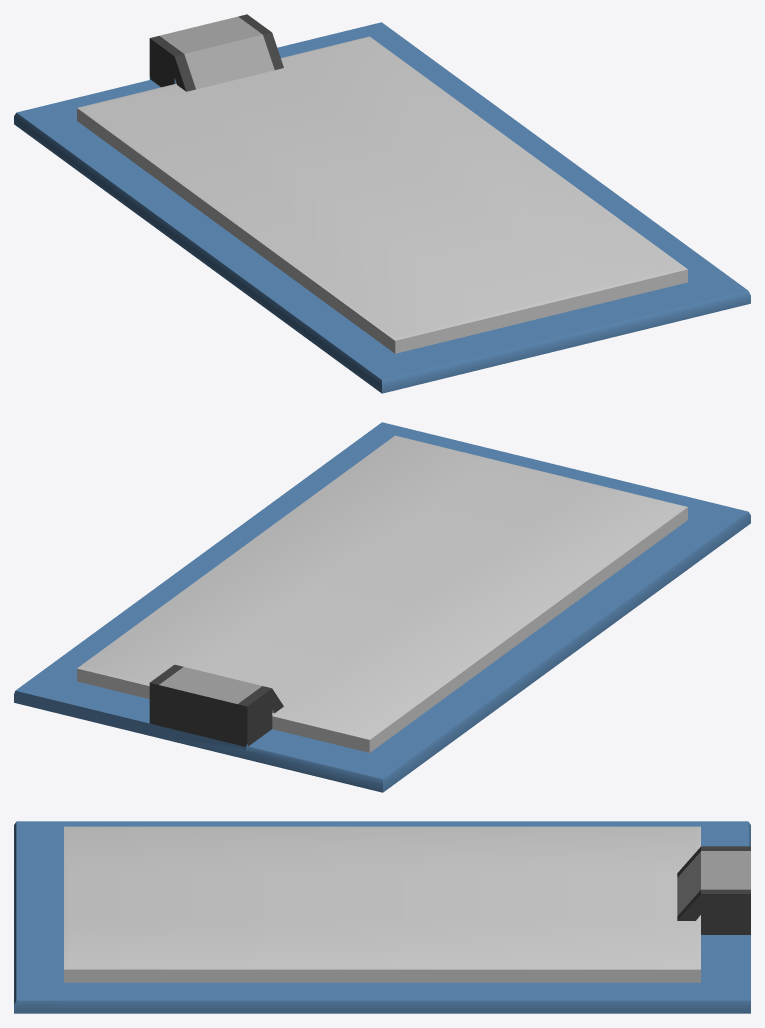
File: DocPaper.002.fbx
3 renders of one model, top to bottom at view 1: azimuth 30°, elevation 25°; view 2: azimuth 150°, elevation 25°; view 3: azimuth 270°, elevation 25°, orthographic.
Visible parts, largest first — view 1: DocPaper.002; view 2: DocPaper.002; view 3: DocPaper.002.
Boxes of the visible parts, x1,y1,x2,y2 form: DocPaper.002: [14, 14, 750, 393]; DocPaper.002: [14, 422, 750, 792]; DocPaper.002: [14, 821, 750, 1013].
Bounding box in the file's own units: 60.06 × 8.26 × 104.
